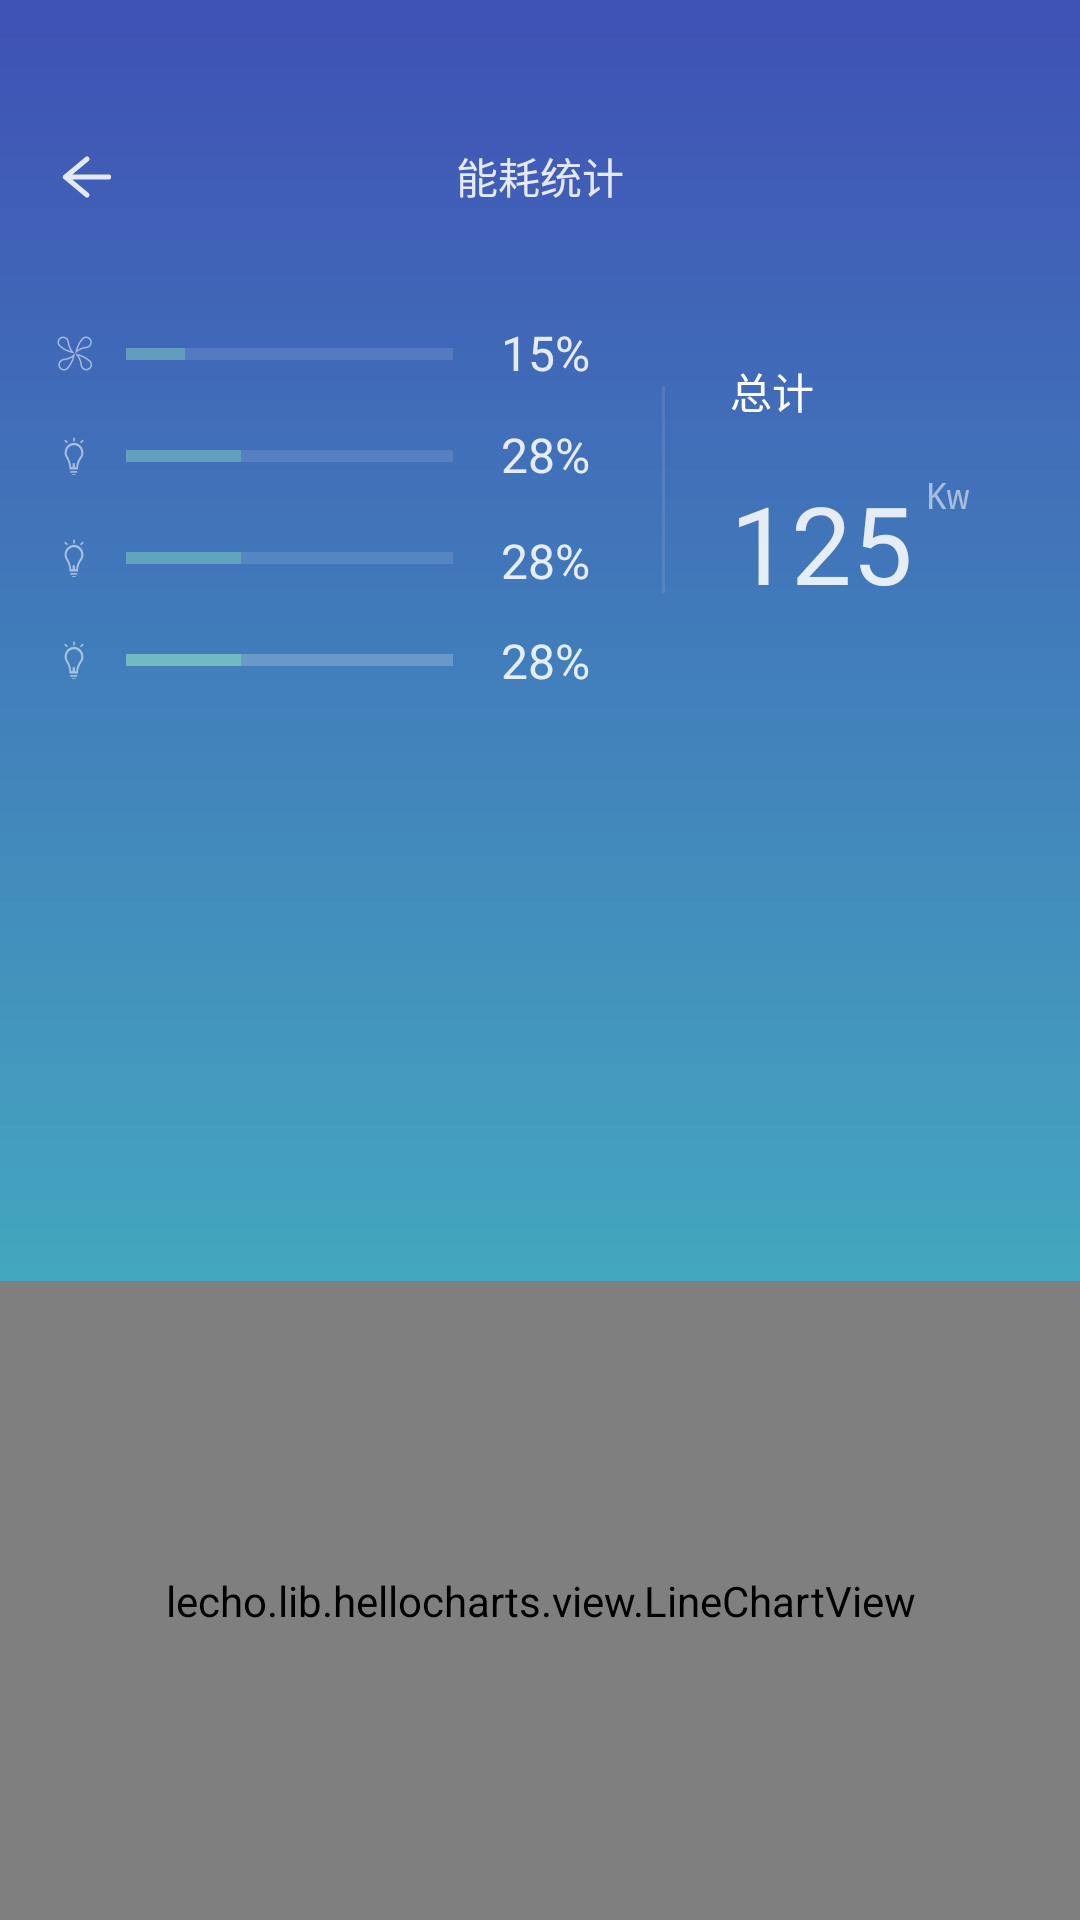

Locate icon controls on the screen. Image size 1080px x 1920px, boxes as BBox(x1, y1, x2, y2).
back left: BBox(63, 156, 111, 198)
fan: BBox(57, 336, 92, 371)
